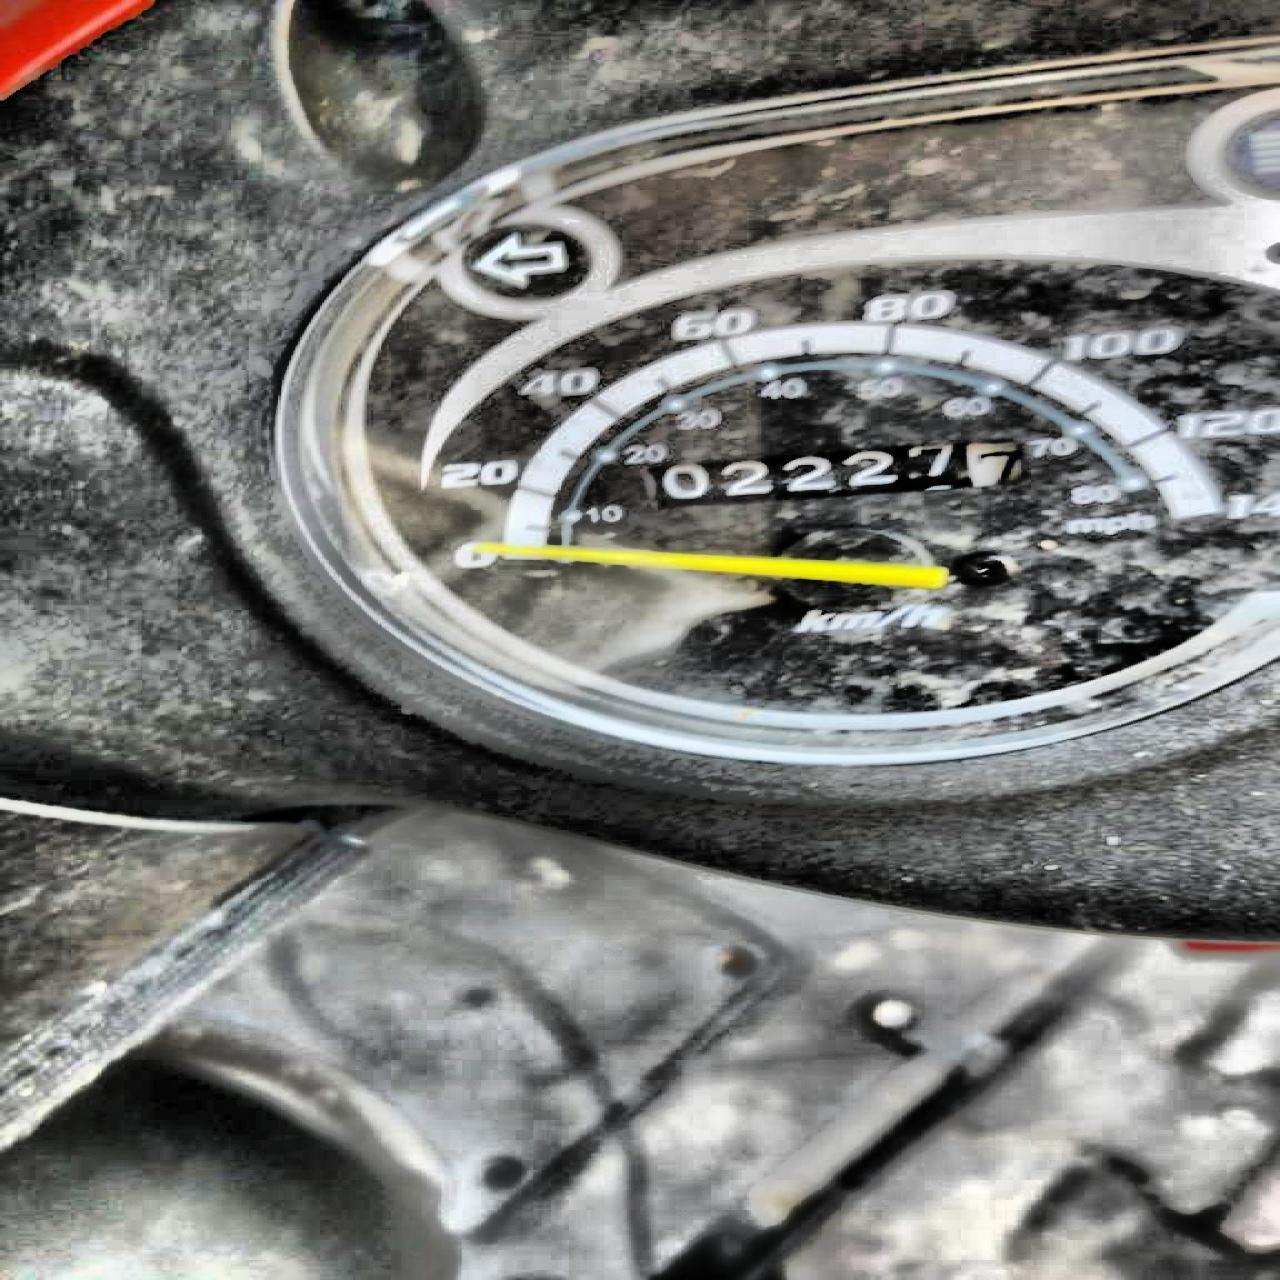0: (658, 463, 707, 498), (642, 443, 665, 463)
2: (777, 454, 836, 491), (840, 449, 896, 486), (717, 459, 771, 495)
7: (905, 440, 952, 476), (975, 450, 1017, 482)
odometer: (640, 436, 1029, 510)
